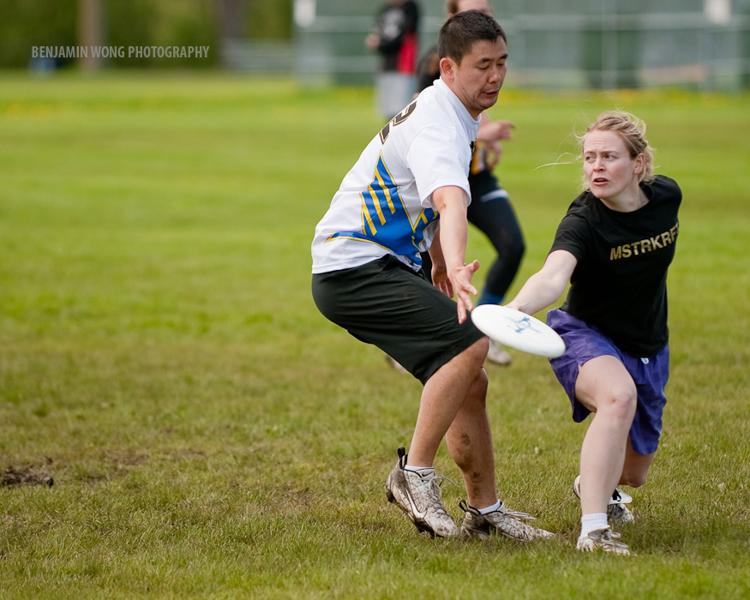person: (490, 114, 684, 559)
